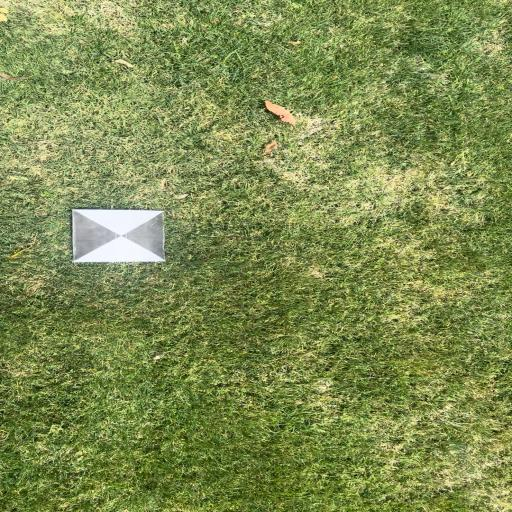target: (72, 209, 164, 261)
